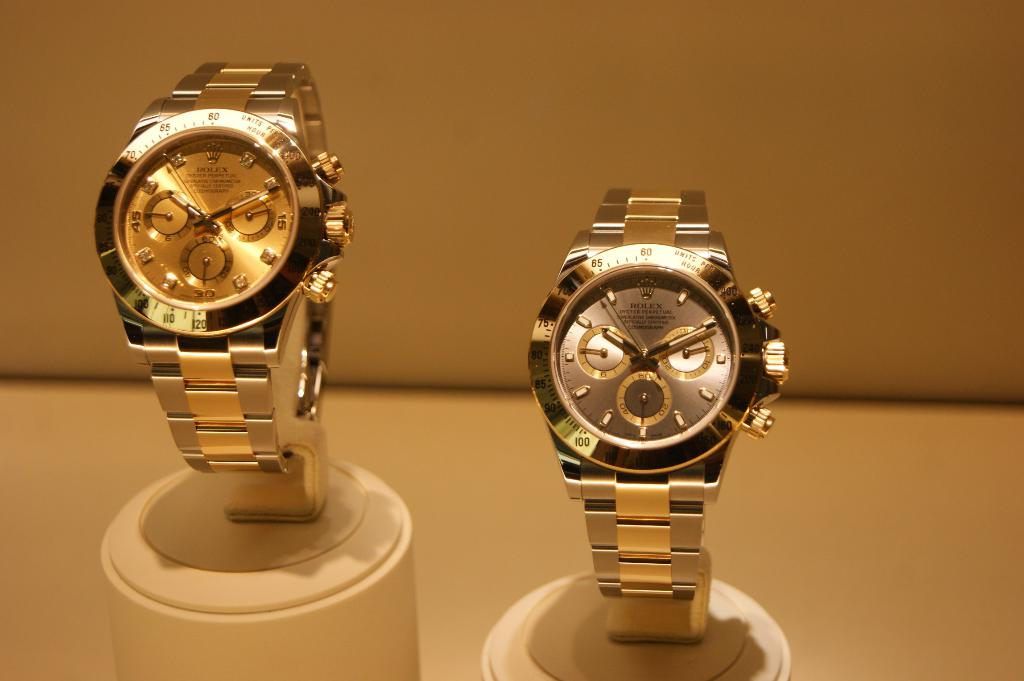watch: (526, 190, 789, 606), (88, 62, 351, 474)
